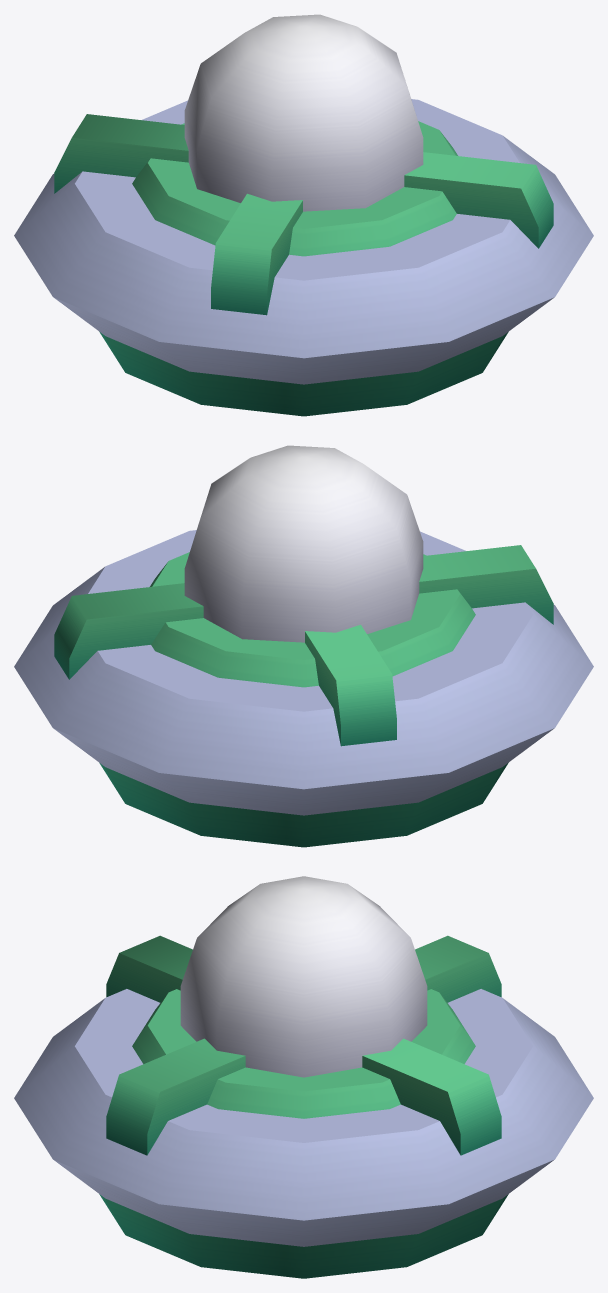
Rendered from enemy-ufo-b.fbx.
The picture shows the model from 3 angles, top to bottom: view 1: azimuth 30°, elevation 25°; view 2: azimuth 150°, elevation 25°; view 3: azimuth 270°, elevation 25°; orthographic projection.
Visible parts, largest first — view 1: enemy-ufo-b; view 2: enemy-ufo-b; view 3: enemy-ufo-b.
Boxes of the visible parts, x1=… form: enemy-ufo-b: x1=14, y1=14, x2=593, y2=416; enemy-ufo-b: x1=14, y1=445, x2=593, y2=847; enemy-ufo-b: x1=14, y1=876, x2=593, y2=1278.
Bounding box in the file's own units: 99.93 × 57.54 × 100.
